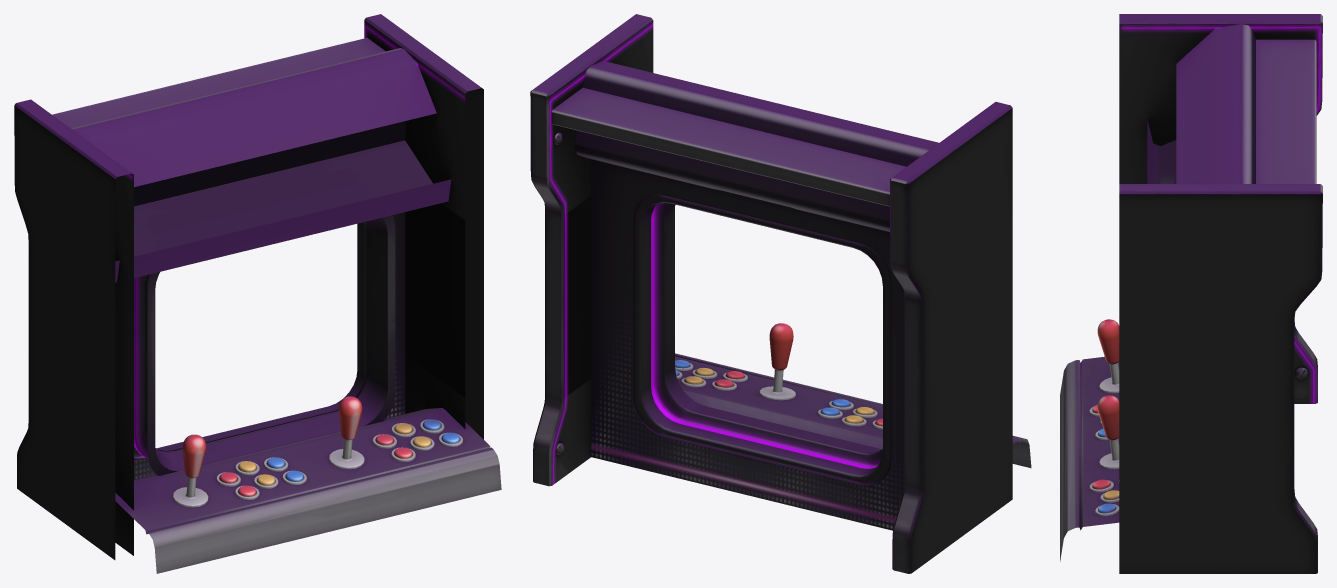
File: TetrisSpace_ArcadeMachine.fbx
3 renders of one model, left to right at view 1: azimuth 30°, elevation 25°; view 2: azimuth 150°, elevation 25°; view 3: azimuth 270°, elevation 25°, orthographic. The views are drawn at different scales.
Visible parts, largest first — view 1: TetrisSpace_ArcadeMachine; view 2: TetrisSpace_ArcadeMachine; view 3: TetrisSpace_ArcadeMachine.
Boxes of the visible parts, x1=… form: TetrisSpace_ArcadeMachine: x1=14, y1=14, x2=501, y2=573; TetrisSpace_ArcadeMachine: x1=530, y1=14, x2=1031, y2=573; TetrisSpace_ArcadeMachine: x1=1060, y1=14, x2=1322, y2=573.
Bounding box in the file's own units: 1408 × 1399 × 873.
